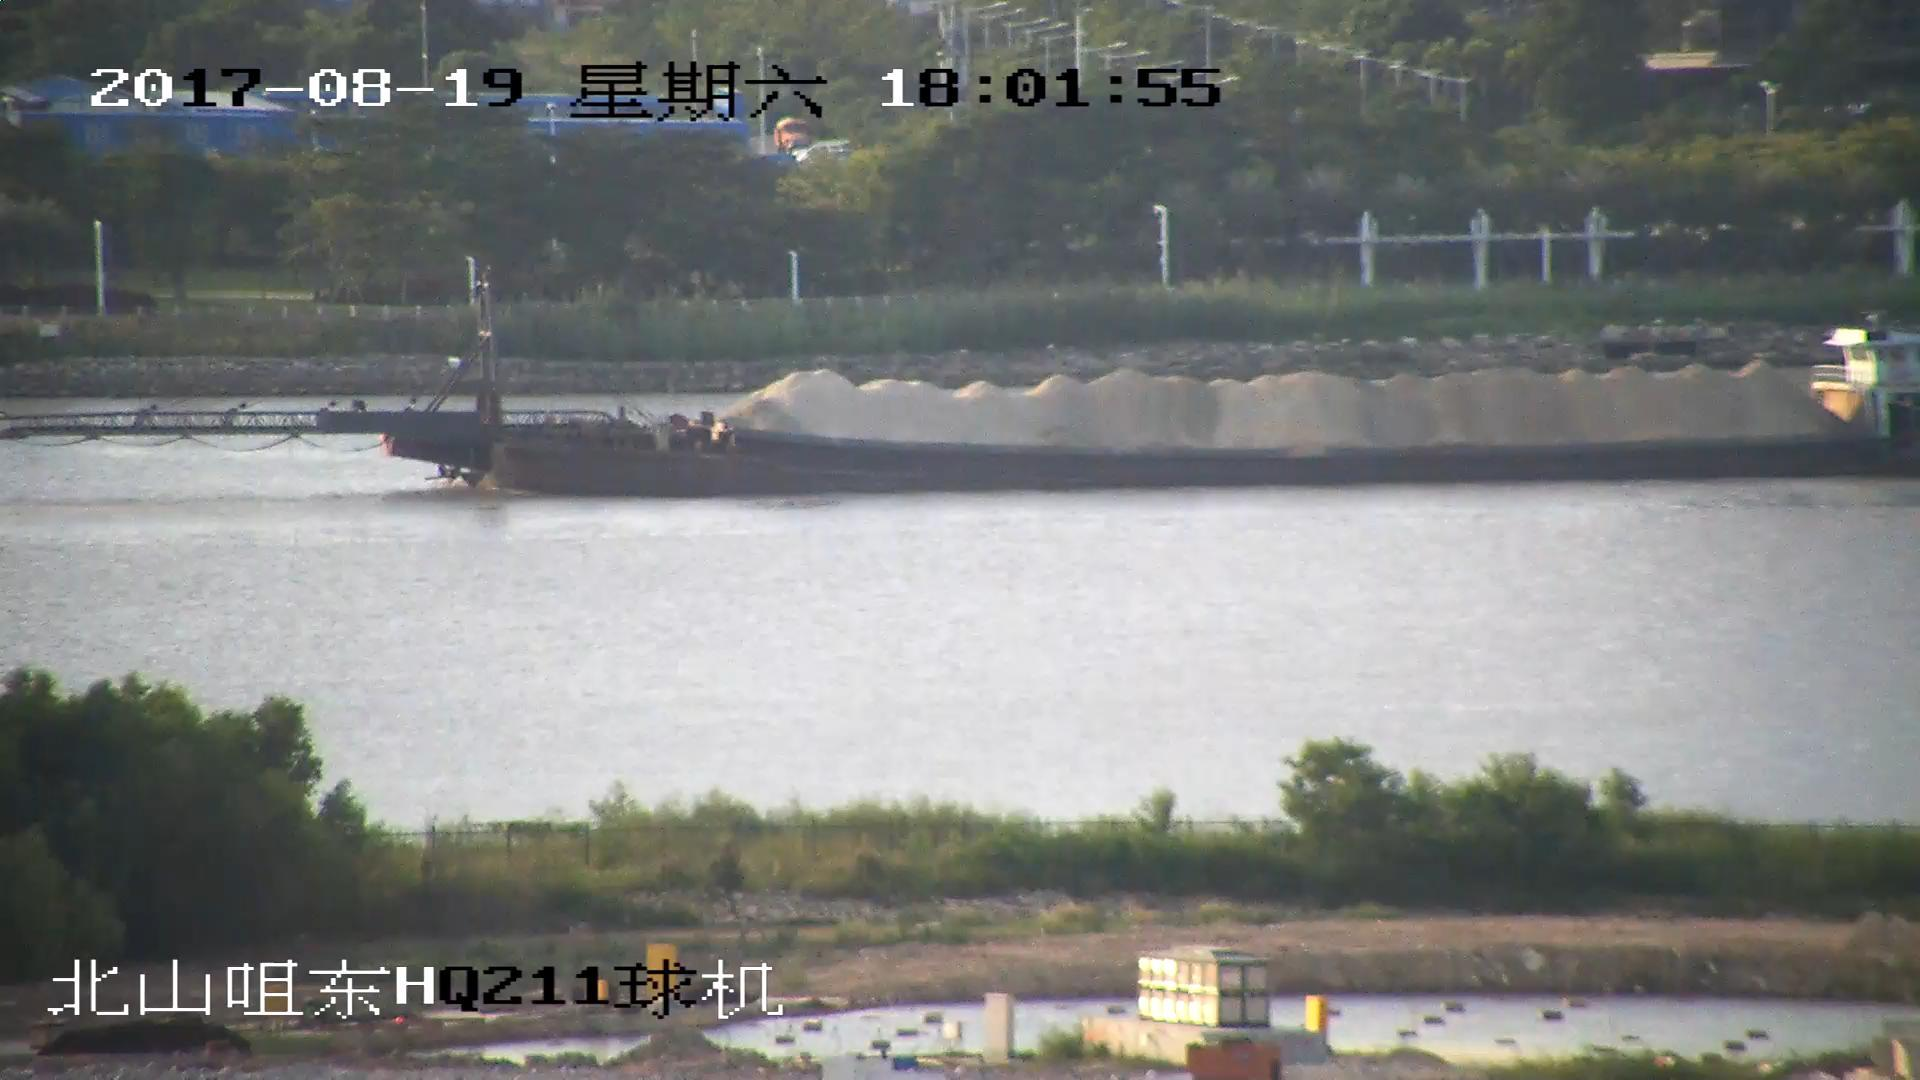Ship: (3, 272, 1920, 498)
